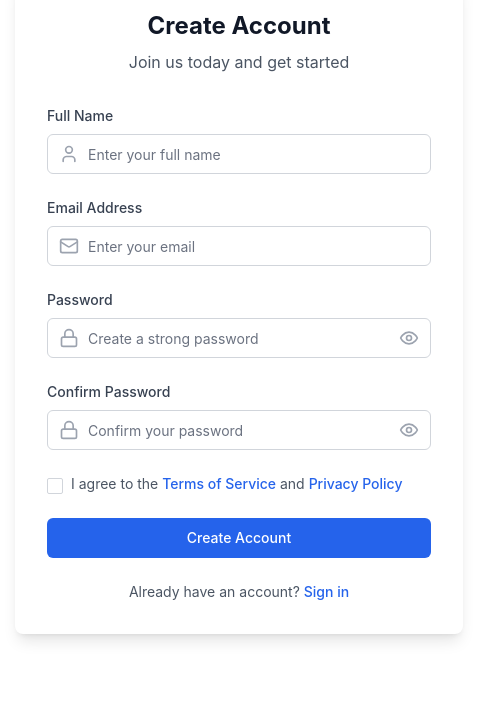
Test: SignupForm › validates password strength
// Test weak password
In the password field labelled "Password": [239, 338] box [47, 318, 431, 358], type "weak"
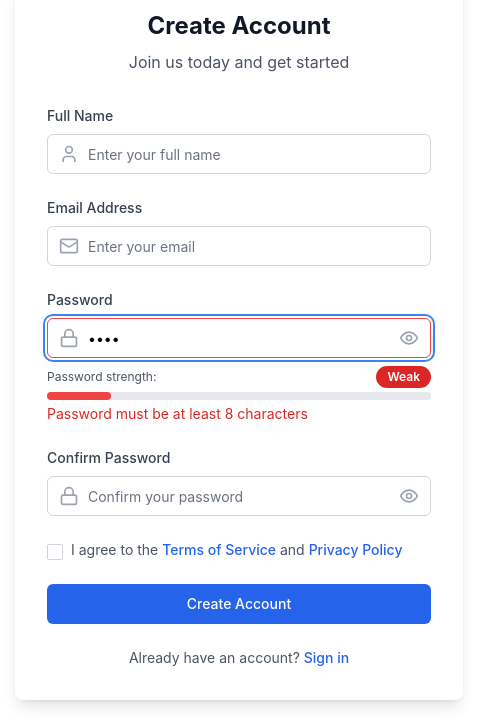
Now the text "Weak" is shown, box [376, 366, 431, 388]
// Test strong password
In the password field labelled "Password": [239, 338] box [47, 318, 431, 358], type "StrongPassword123!"
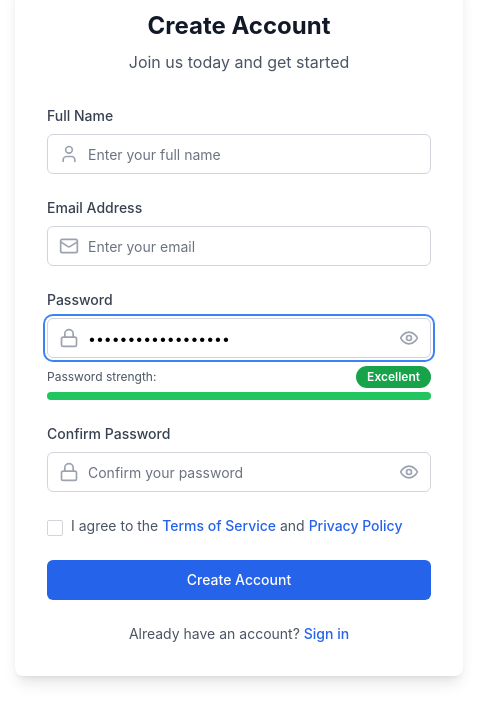
Now the text "Excellent" is shown, box [356, 366, 431, 388]
